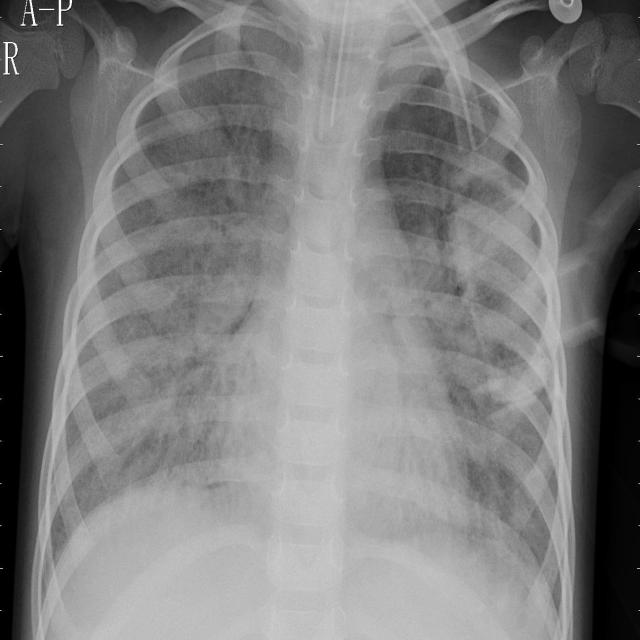low-pneumonia: (120, 131, 269, 448), (411, 179, 538, 456)
